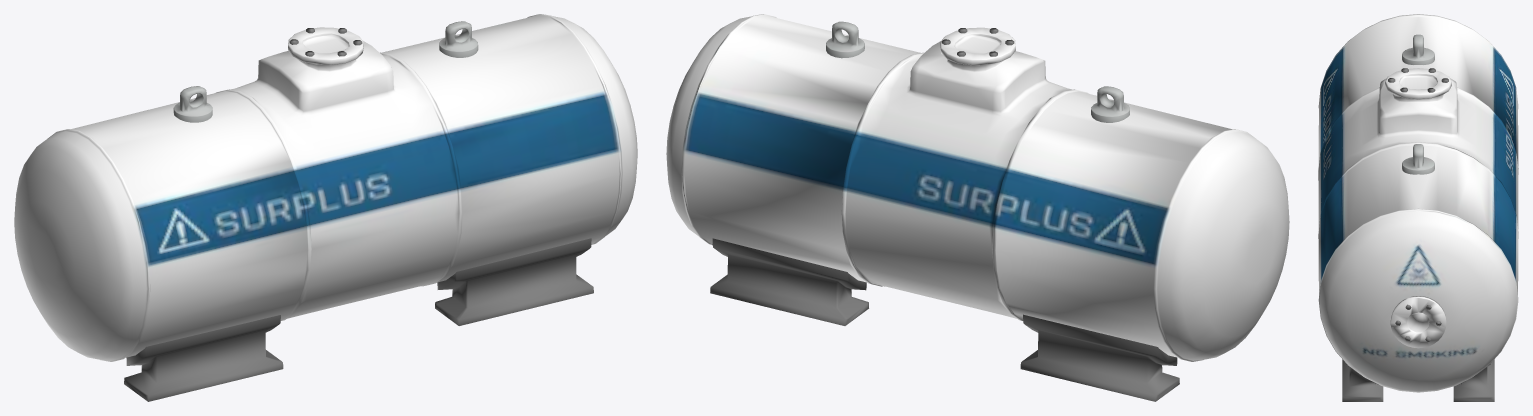
The model's file is ew-horizontal-tank.lod0.glb.
3 renders of one model, left to right at view 1: azimuth 30°, elevation 25°; view 2: azimuth 150°, elevation 25°; view 3: azimuth 270°, elevation 25°, orthographic. The views are drawn at different scales.
Parts seen in each view (by area): view 1: TankLegs_low__0; view 2: TankLegs_low__0; view 3: TankLegs_low__0.
Boxes of the visible parts, x1,y1,x2,y2 form: TankLegs_low__0: [14, 14, 637, 401]; TankLegs_low__0: [666, 14, 1289, 401]; TankLegs_low__0: [1318, 14, 1518, 401].
Size of the model in its own units: 12 by 5.45 by 4.3.
1 material, 1 textured.
